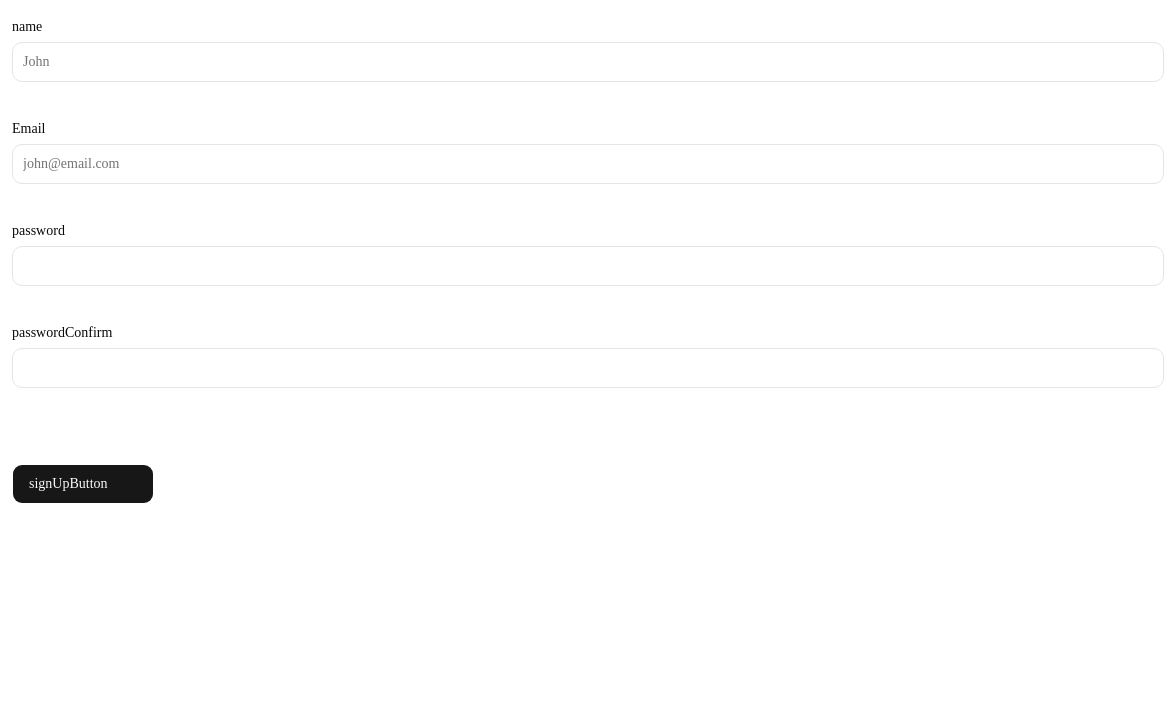
Test: SignUpForm › server submission › shows the returned error as a root alert when signUpAction fails
Type "Ada" into the field with placeholder "John" at (588, 62), box [12,42,1164,82]
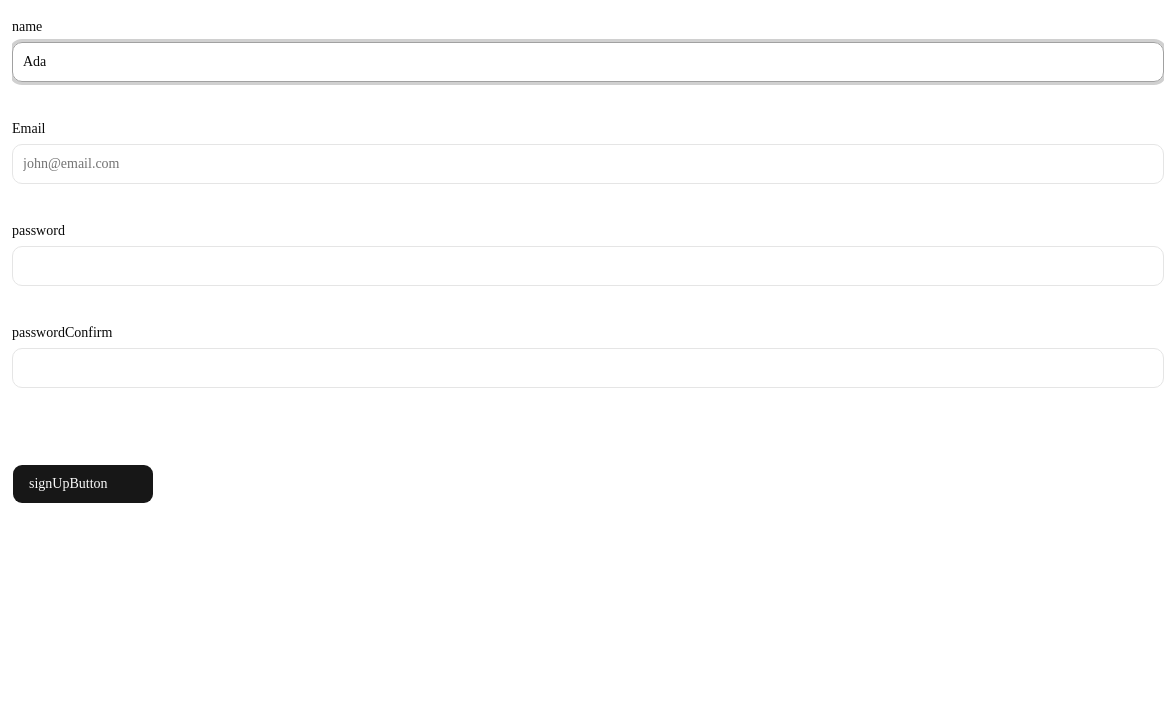
Type "ada@example.com" into the field with placeholder "john@email.com" at (588, 164), box [12,144,1164,184]
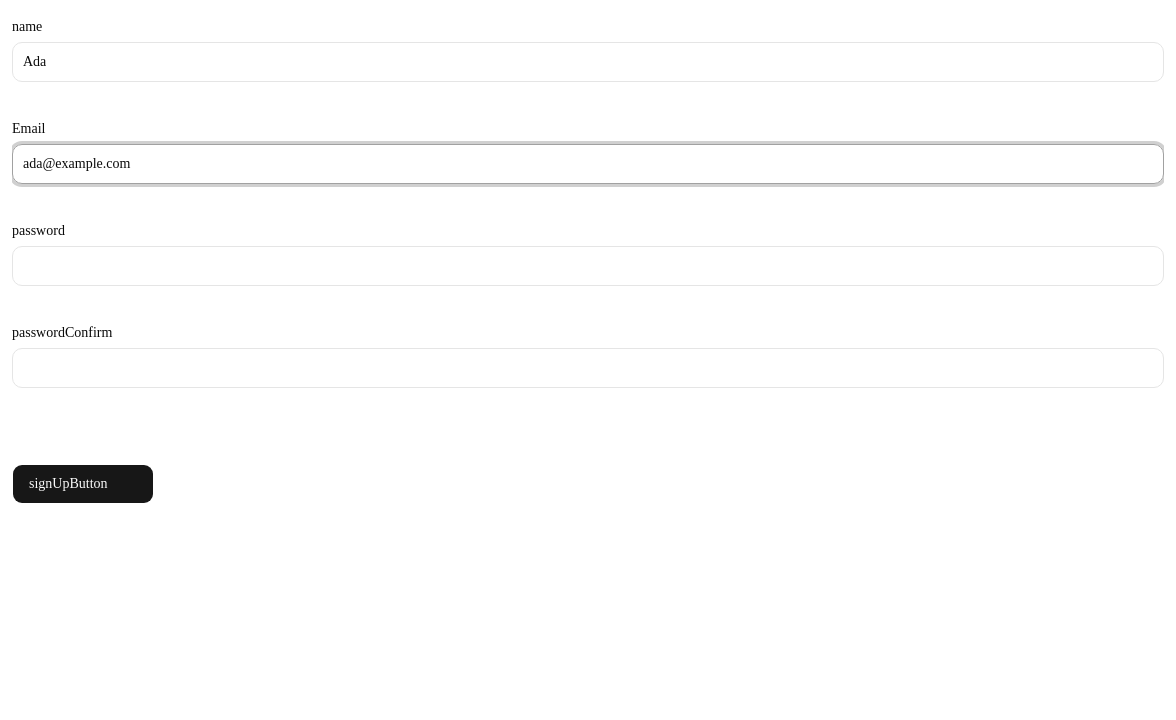
Type "Password1!" into the password field labelled "password" at (588, 266), box [12,246,1164,286]
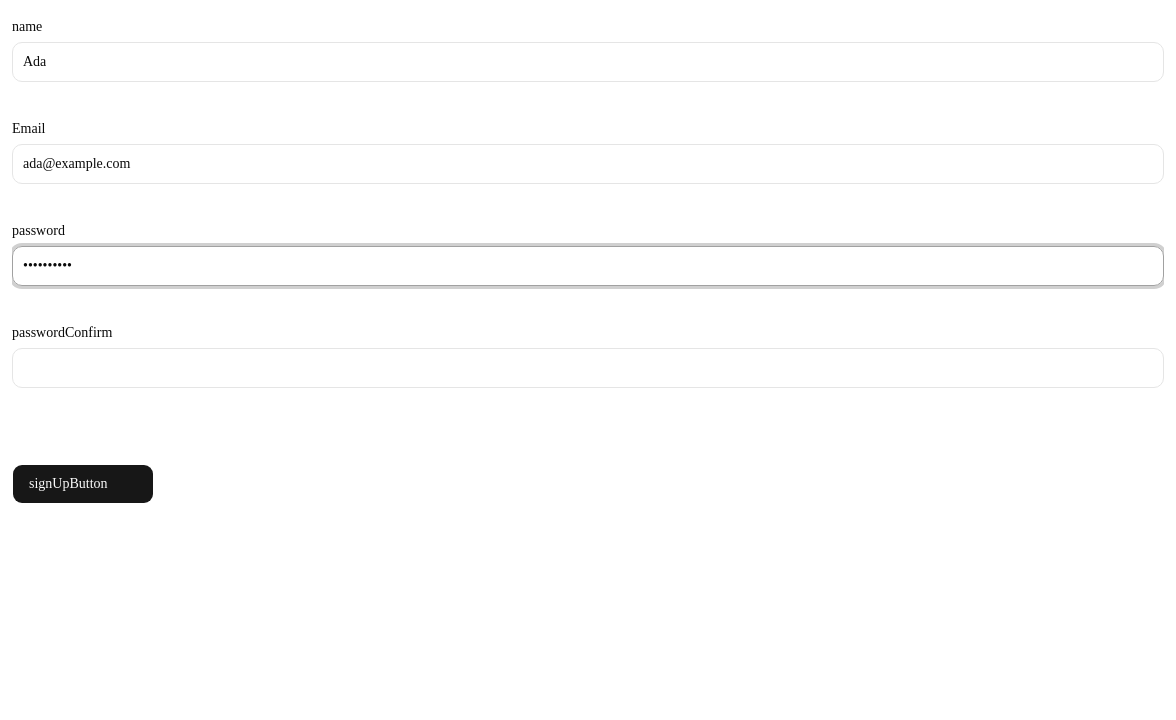
Type "Password1!" into the password field labelled "passwordConfirm" at (588, 368), box [12,348,1164,388]
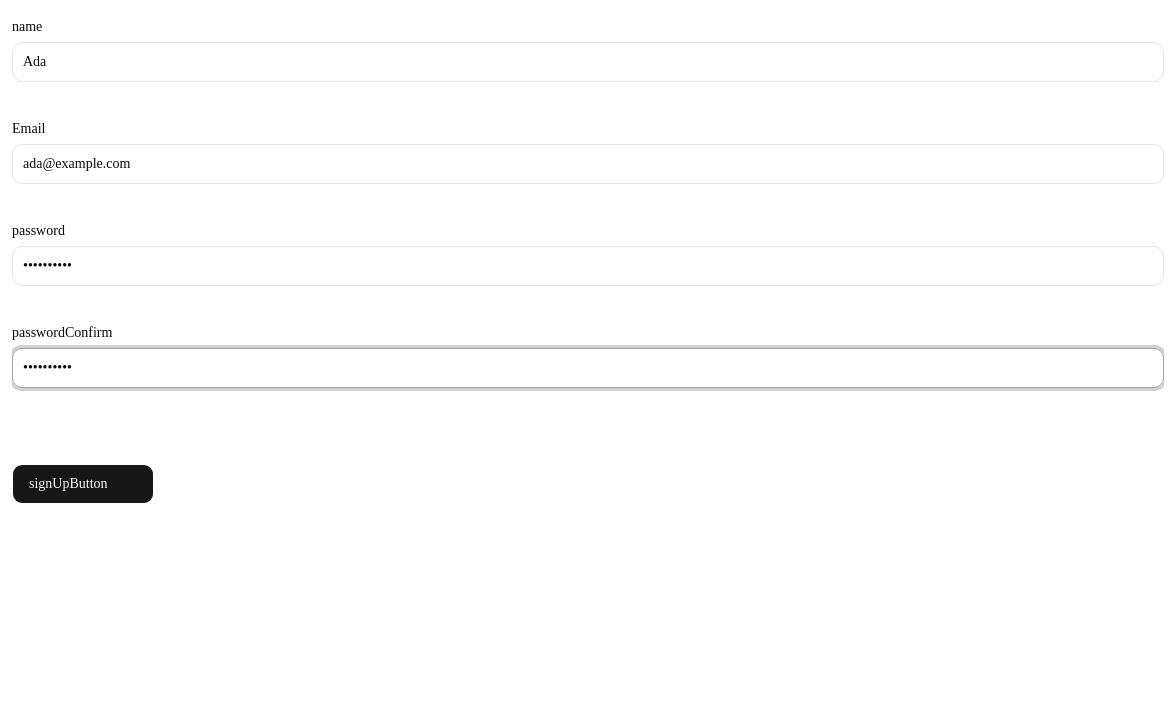
Click the button "signUpButton" at (83, 484), box [12,464,154,504]
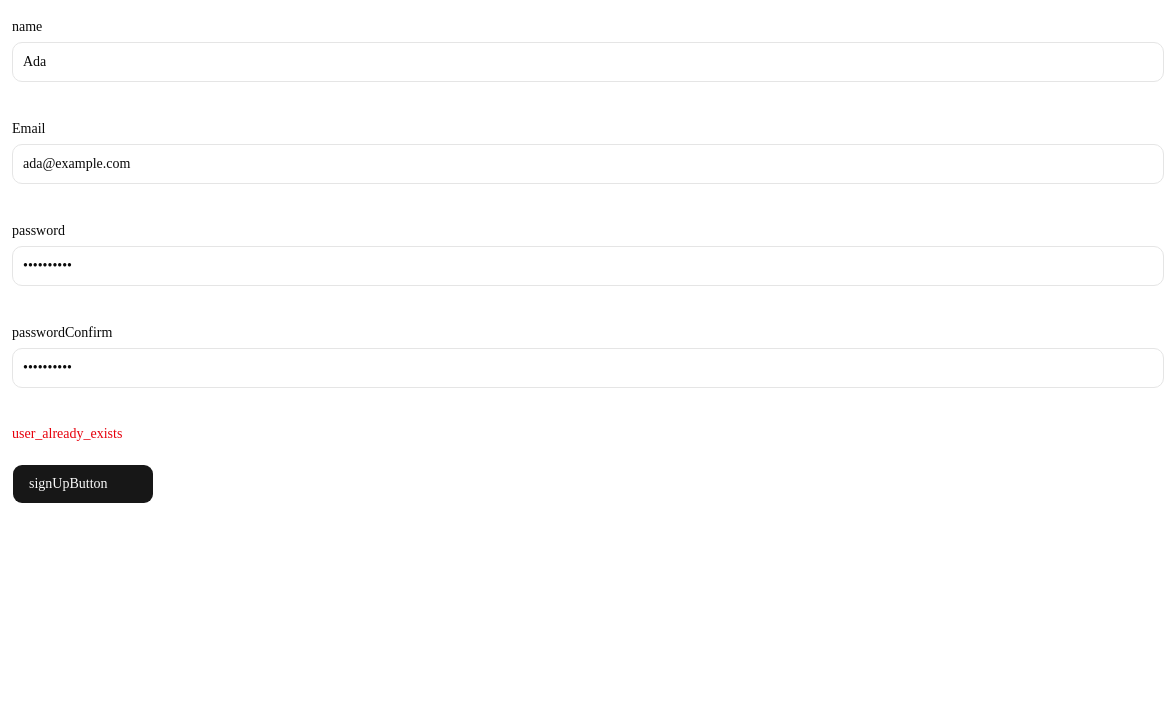
Expected: the message reads "user_already_exists", [12,426,122,441]
